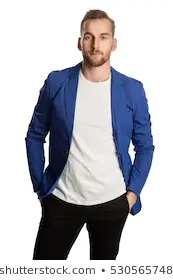F_M_suit jacket: (23, 58, 160, 222)
